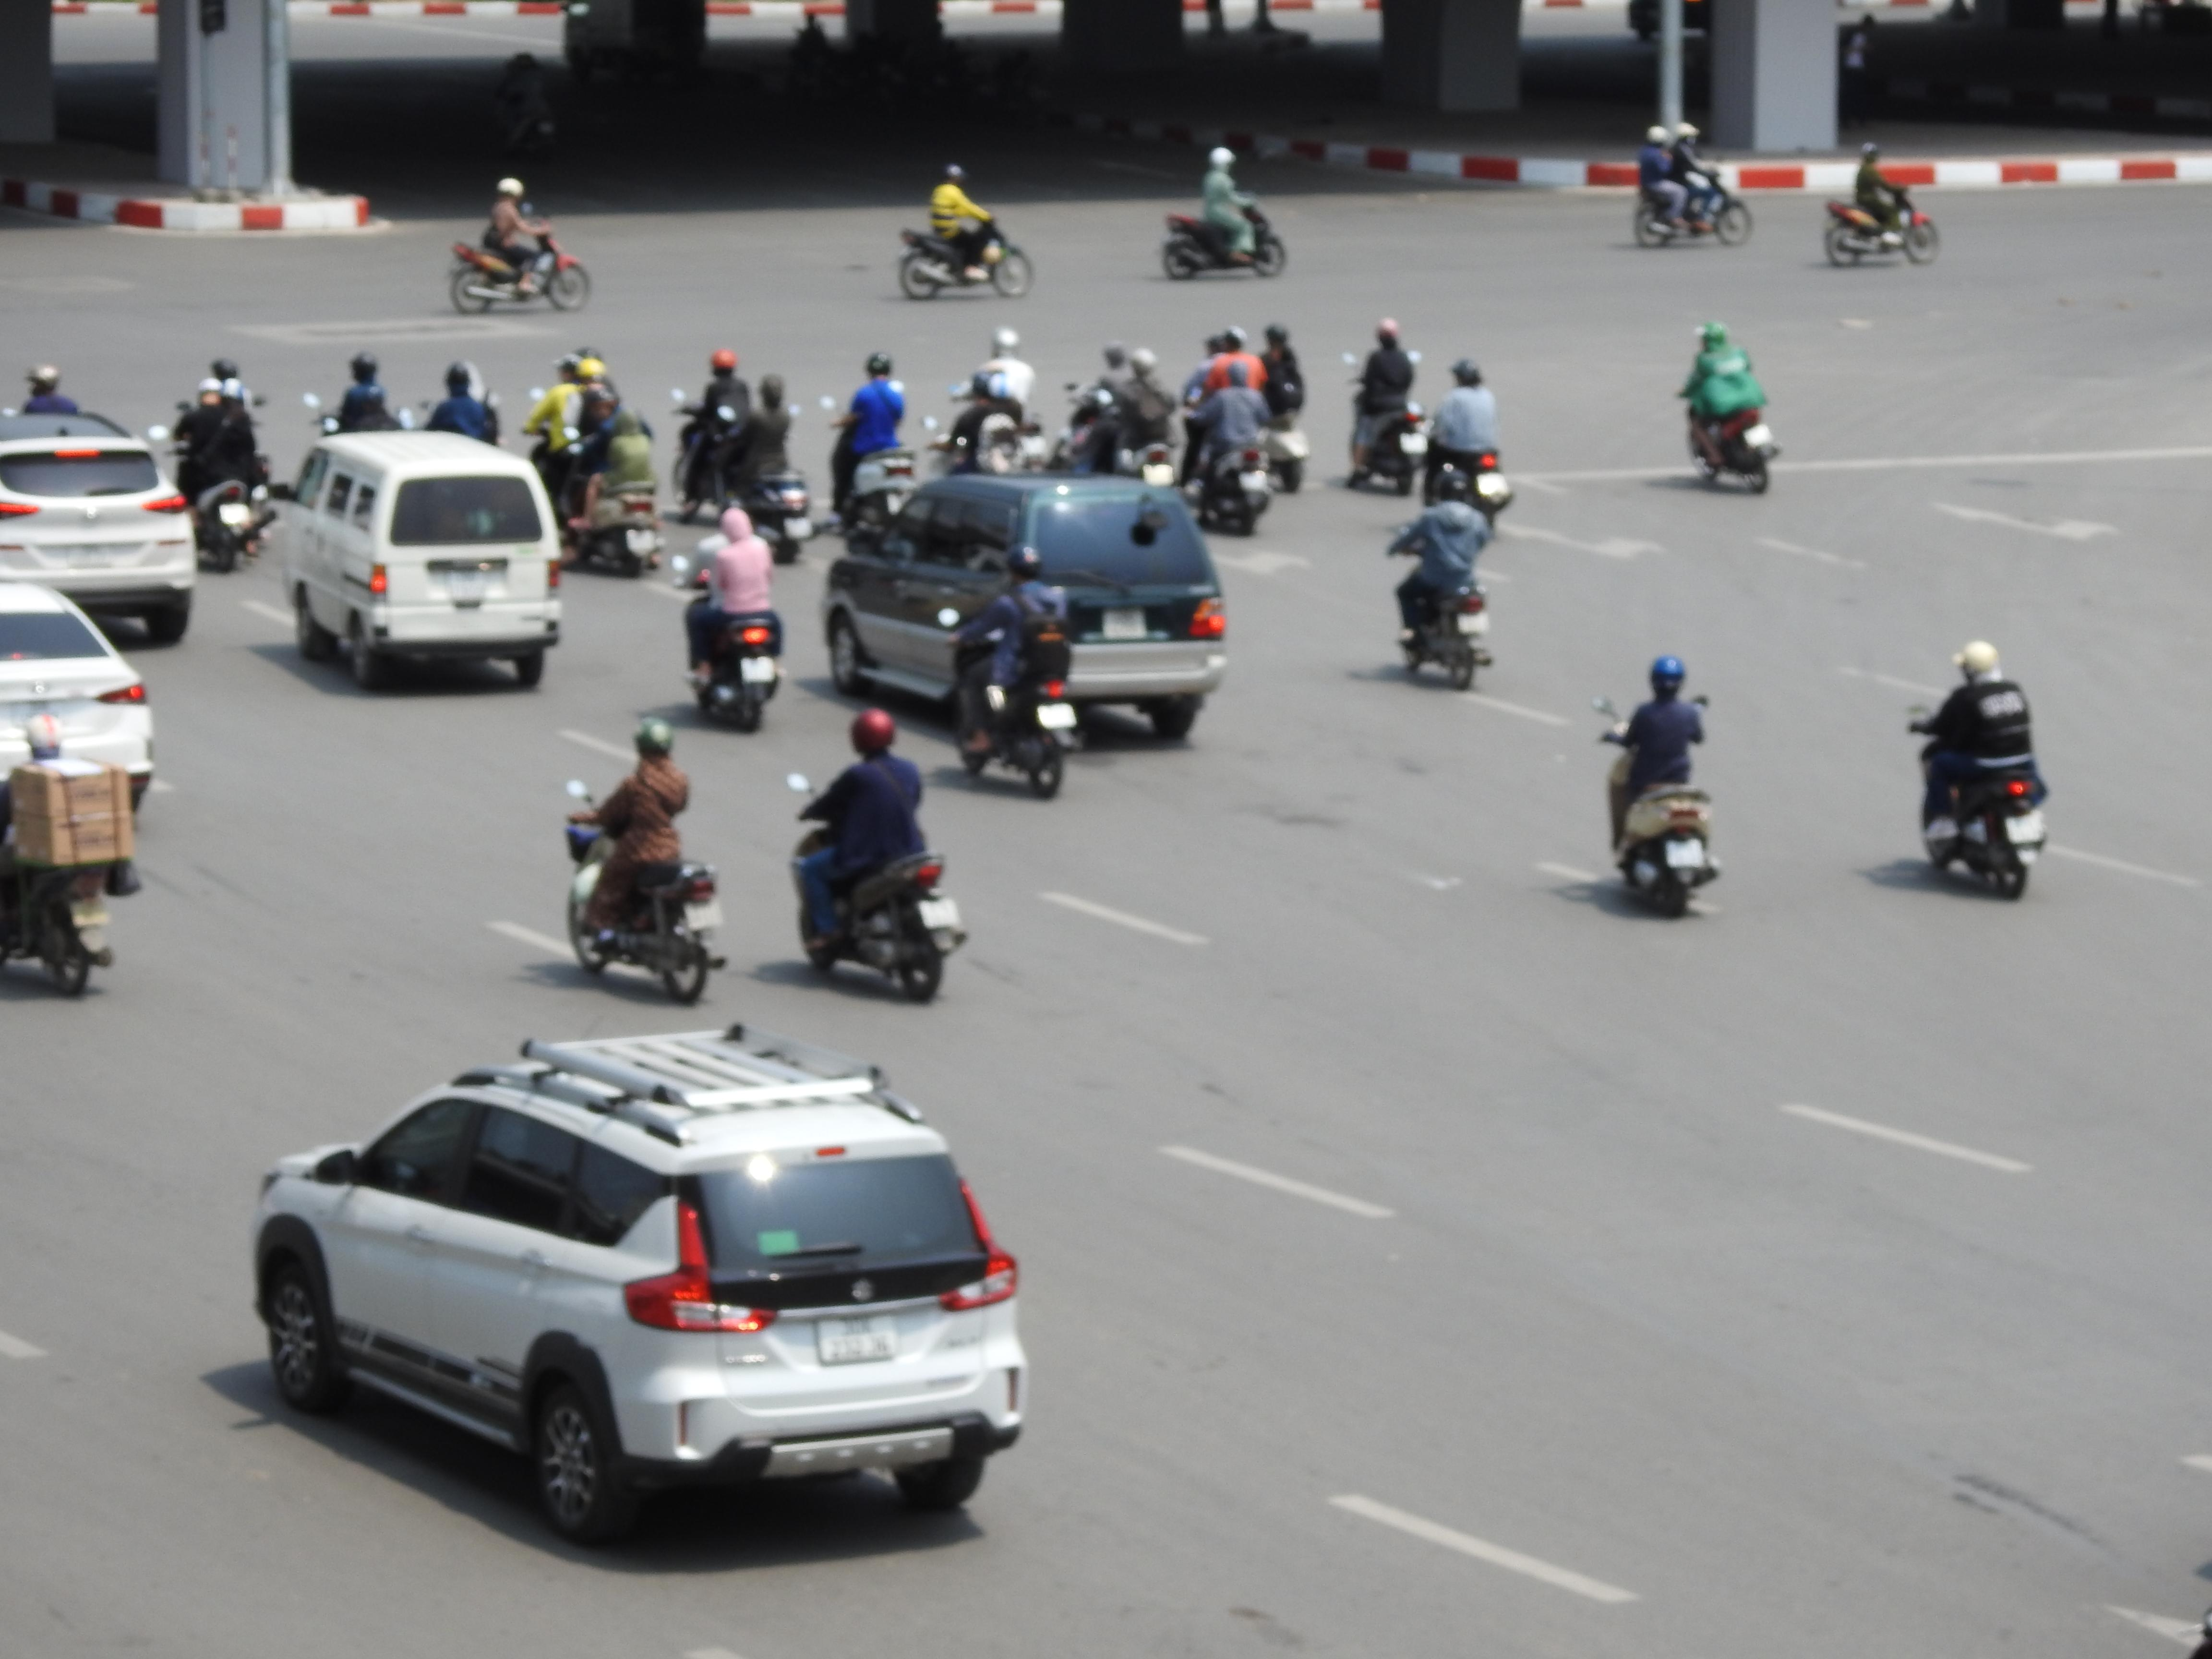BSV: (817, 1314, 897, 1364)
car: (249, 1023, 1029, 1546), (820, 469, 1228, 742), (277, 427, 566, 694), (0, 415, 199, 645), (0, 575, 155, 852)
motorbike: (789, 708, 967, 1006), (563, 718, 728, 1006), (0, 711, 129, 1000), (1909, 640, 2050, 903), (949, 545, 1078, 800), (1599, 652, 1719, 920), (678, 500, 786, 734), (1388, 465, 1494, 692), (165, 362, 275, 575), (559, 385, 664, 577), (446, 178, 590, 315), (894, 166, 1035, 301), (719, 371, 813, 561), (1679, 321, 1780, 497), (1179, 359, 1275, 538), (826, 350, 918, 533), (1158, 150, 1287, 281), (930, 326, 1043, 474), (1061, 342, 1181, 481), (1418, 357, 1512, 523), (1343, 317, 1428, 497), (669, 347, 754, 523), (1630, 127, 1752, 249), (1820, 146, 1939, 268)
